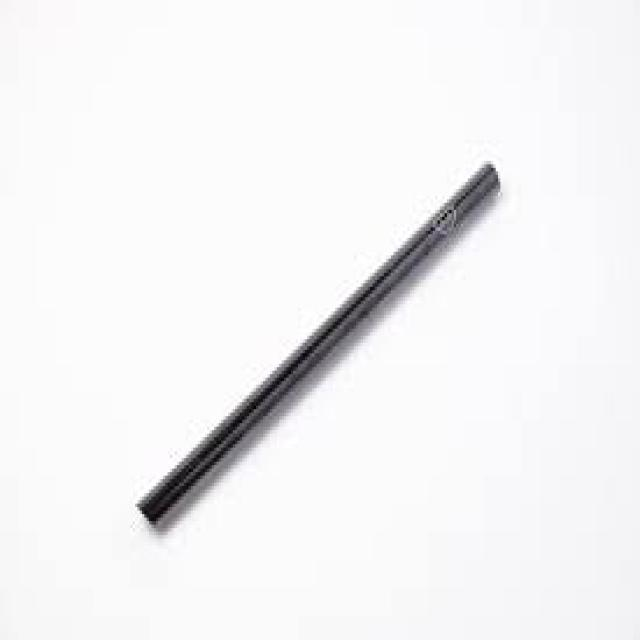straw: (137, 163, 498, 521)
